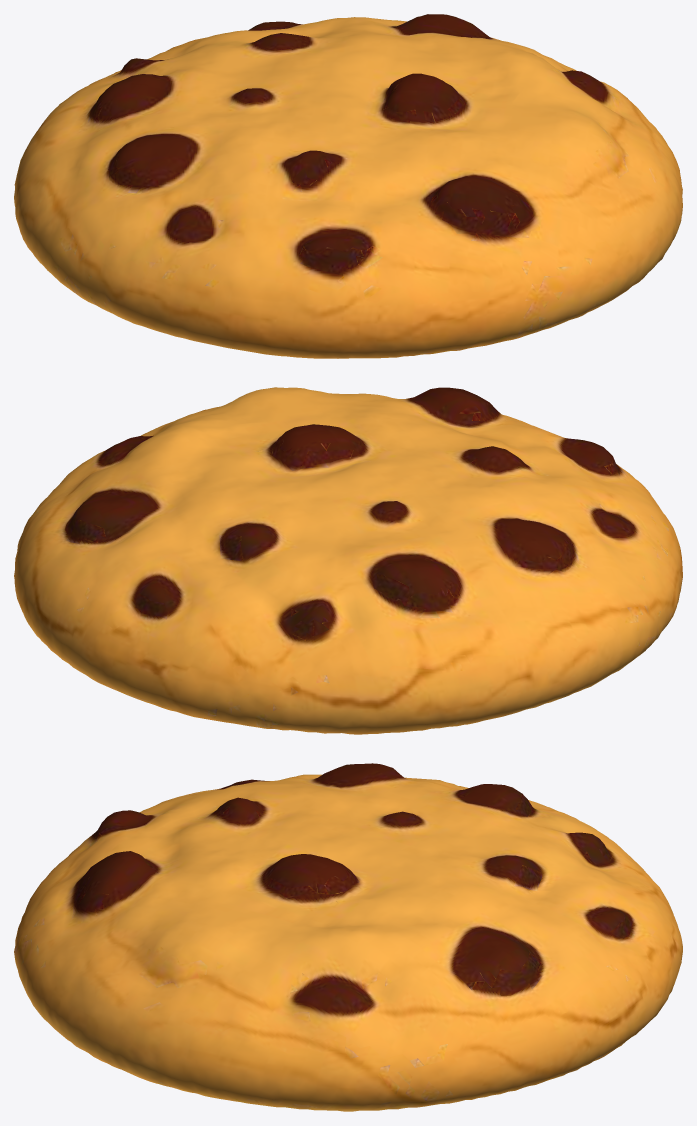
The picture shows the model from 3 angles, top to bottom: view 1: azimuth 30°, elevation 25°; view 2: azimuth 150°, elevation 25°; view 3: azimuth 270°, elevation 25°; orthographic projection.
Bounding box in the file's own units: 1.91 × 0.5519 × 1.91.
1 material, 1 textured.
